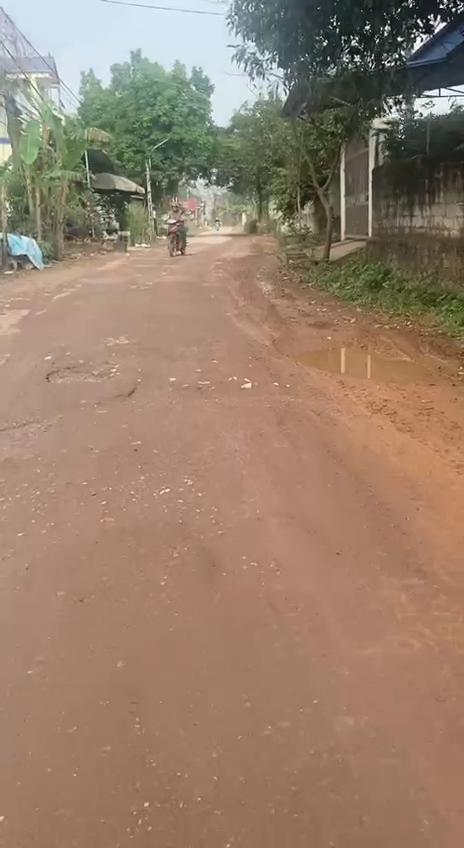pothole: (282, 340, 457, 386), (42, 362, 123, 388)
